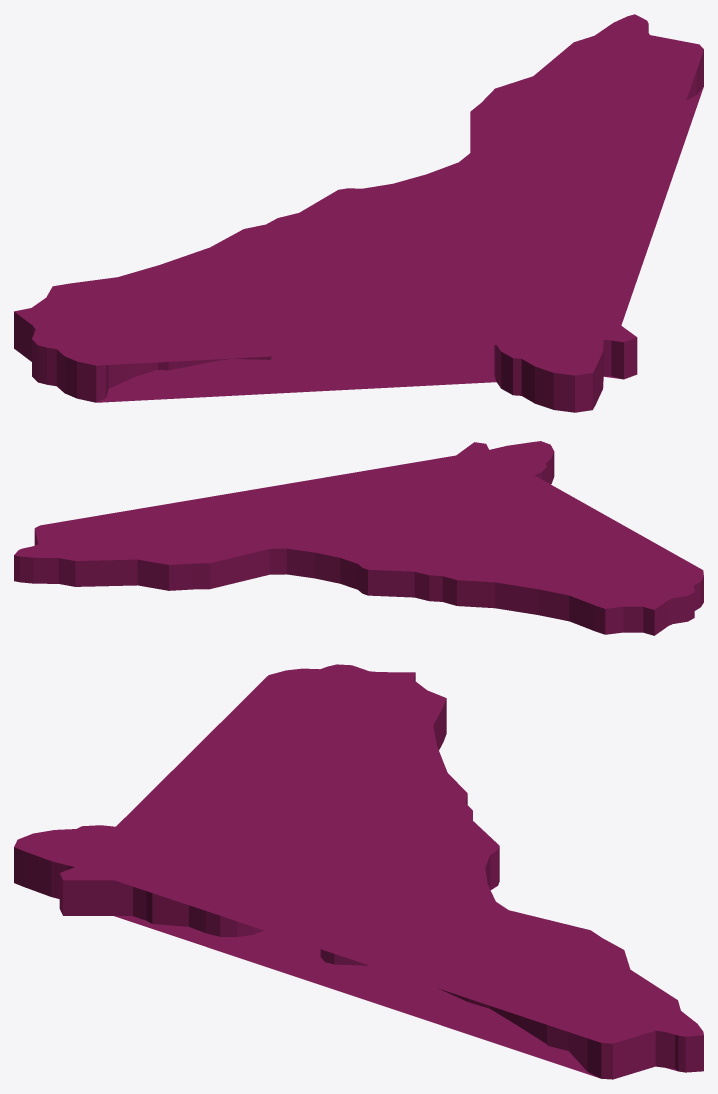
The model's file is assam.fbx.
3 views of the same model, one above another, from view 1: azimuth 30°, elevation 25°; view 2: azimuth 150°, elevation 25°; view 3: azimuth 270°, elevation 25° (orthographic). The views are drawn at different scales.
Parts seen in each view (by area): view 1: Assam; view 2: Assam; view 3: Assam.
Part boxes in pixels (x1=…): Assam: x1=14, y1=14, x2=703, y2=412; Assam: x1=14, y1=441, x2=703, y2=635; Assam: x1=14, y1=664, x2=703, y2=1079.
Size of the model in its own units: 86.34 by 3.81 by 66.39.
